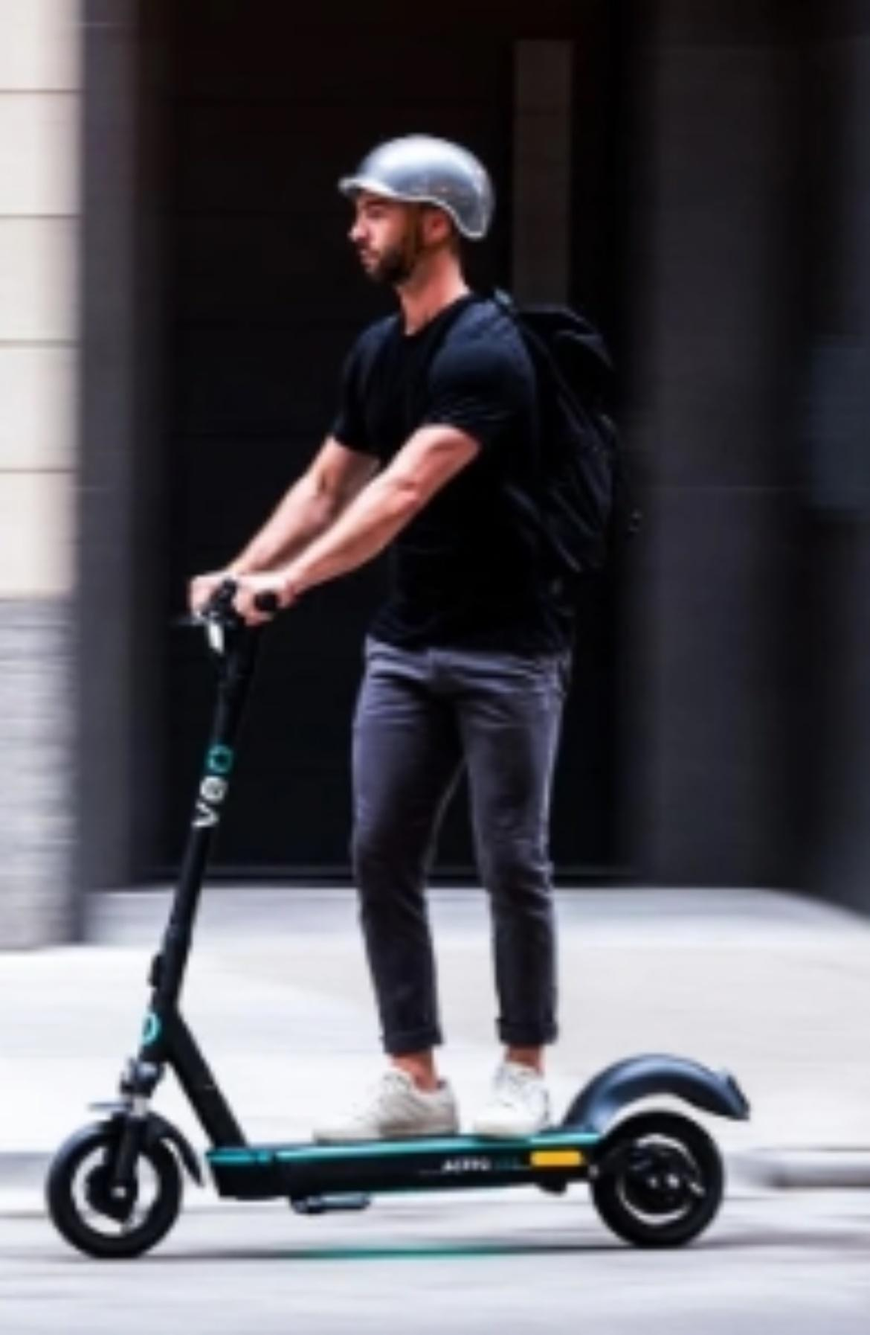helmet: (339, 130, 499, 309)
human: (178, 125, 571, 1136)
kickboard: (27, 1097, 749, 1249)
